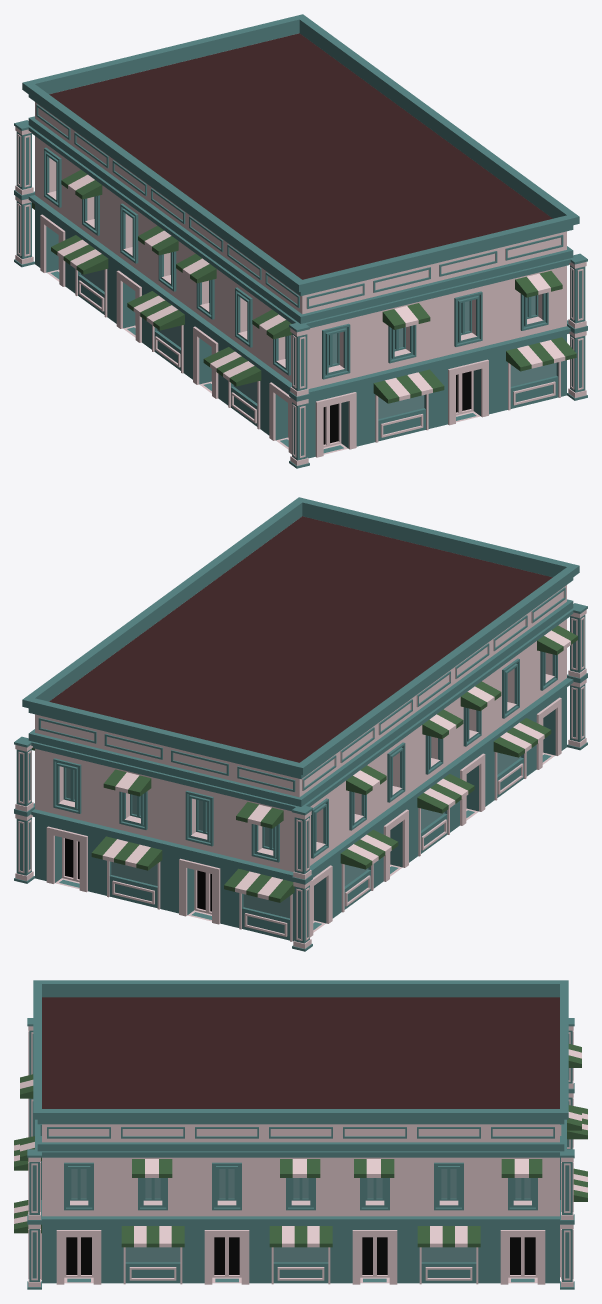
3 views of the same model, one above another, from view 1: azimuth 30°, elevation 25°; view 2: azimuth 150°, elevation 25°; view 3: azimuth 270°, elevation 25° (orthographic). The views are drawn at different scales.
Parts seen in each view (by area): view 1: Procedural Building; view 2: Procedural Building; view 3: Procedural Building.
Boxes of the visible parts, x1,y1,x2,y2 form: Procedural Building: (14,14,587,468); Procedural Building: (14,497,587,951); Procedural Building: (14,980,587,1289).
Bounding box in the file's own units: 476 × 260 × 776.
